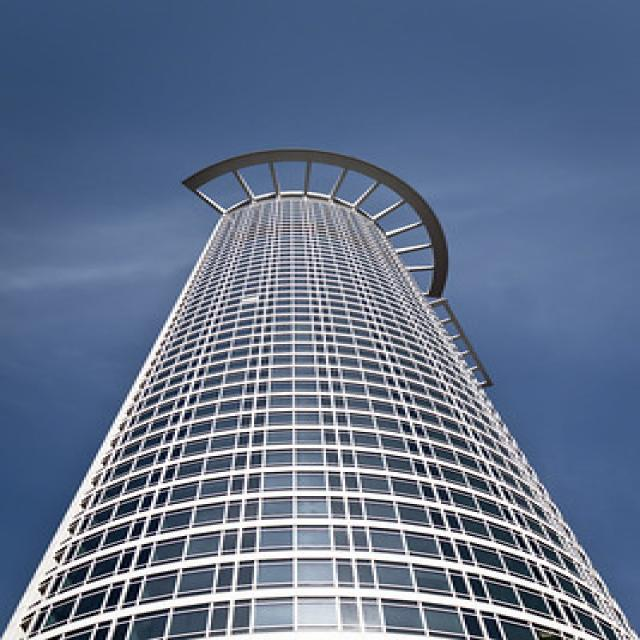building: (11, 141, 634, 640)
